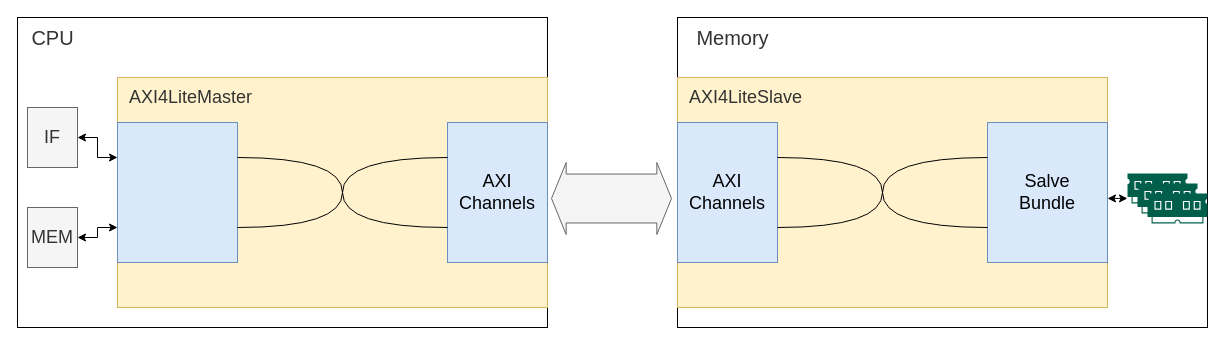
Some shapes in this 1225 by 345 pixel diagram are drawn without their labels. Here are the shapes that lost their labels. From the top down, the box of each, then its label:
(116, 122, 238, 262): Master Bundle
(550, 162, 672, 234): Bus
